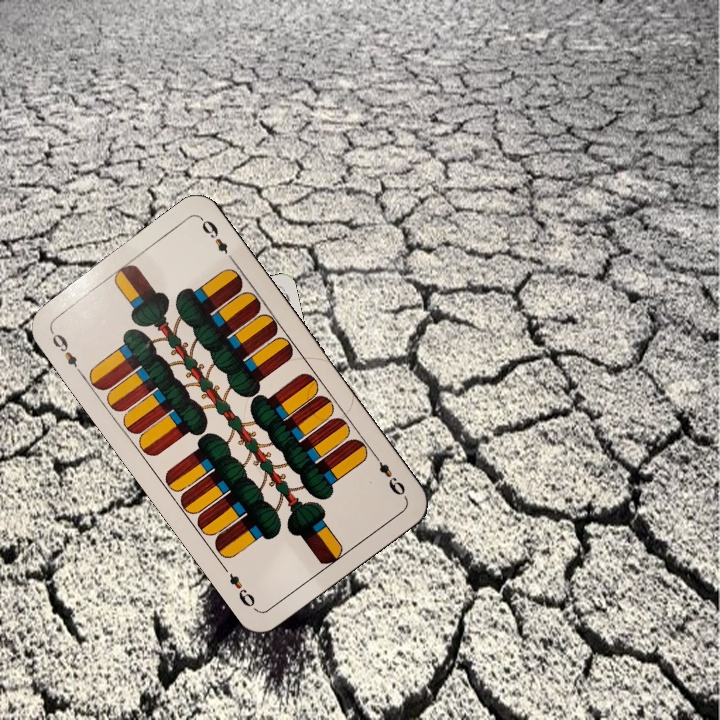E9: (46, 326, 86, 378), (369, 449, 408, 499)
